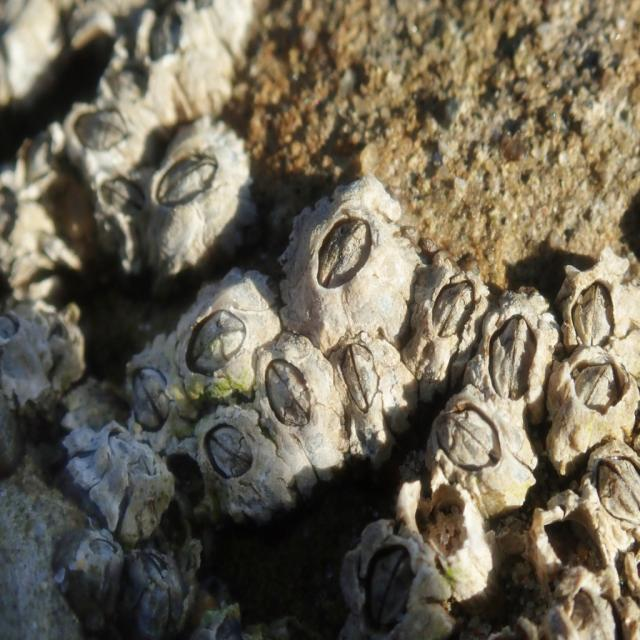barnacles: (287, 170, 414, 334), (145, 114, 262, 258), (341, 506, 446, 640), (81, 417, 182, 550), (254, 341, 349, 478), (404, 468, 494, 600), (134, 0, 242, 108), (434, 398, 535, 512), (330, 323, 418, 453), (484, 266, 558, 409), (180, 272, 267, 388), (555, 336, 640, 442), (415, 253, 486, 373), (198, 412, 270, 523), (122, 332, 190, 444), (558, 252, 634, 352), (58, 91, 138, 173), (57, 514, 119, 610), (136, 545, 202, 629), (582, 429, 640, 520), (95, 171, 149, 266)
